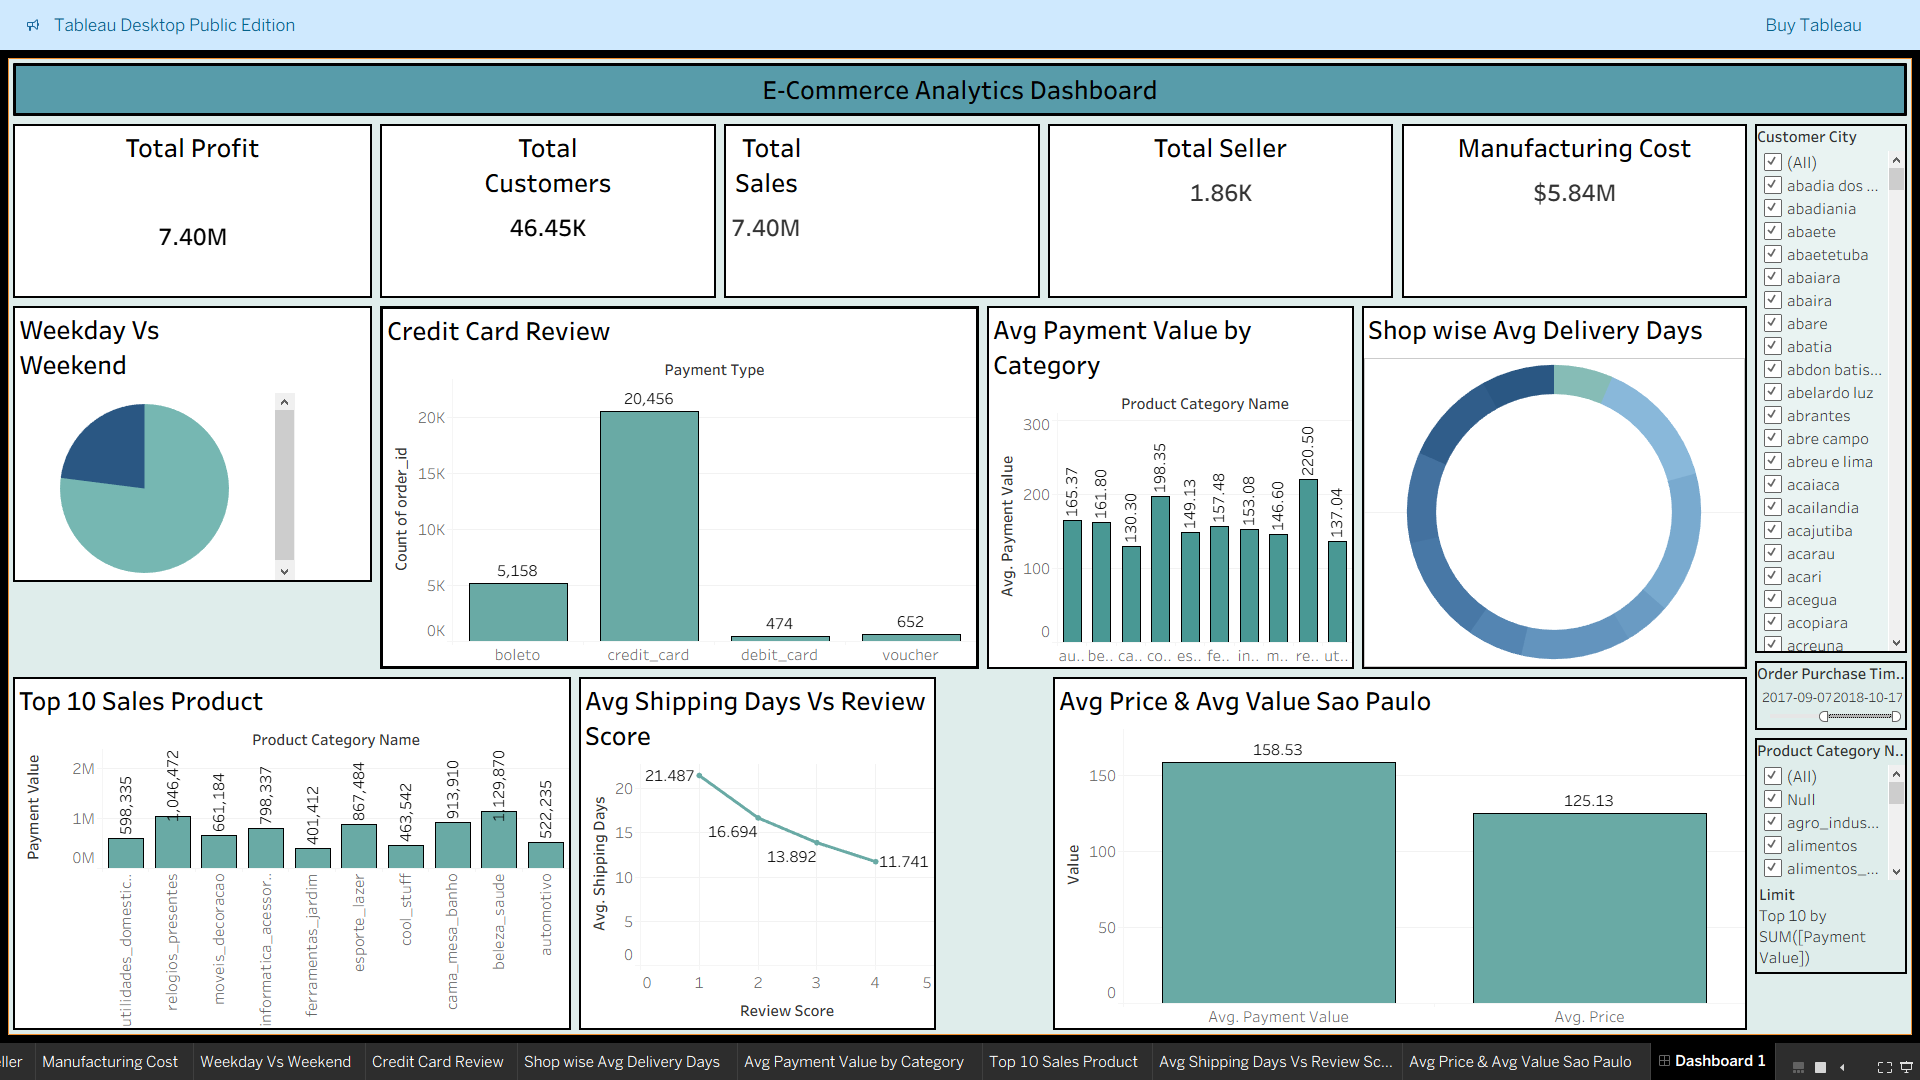

The page's visual inventory and layout, read from the dashboard file:
{"tool":"tableau","page":{"name":"Dashboard 1","canvas":[1000,1000],"units":"permille","ordinal":0},"visuals":[{"type":"title","box":[5.4,11.2,989.1,76.2]},{"type":"worksheet","title":"Total Profit","mark":"Text","box":[5.4,87.4,188.3,179.3]},{"type":"worksheet","title":"Total Customers","mark":"Automatic","box":[193.7,87.4,176.2,179.8]},{"type":"worksheet","title":"Total Sales","mark":"Automatic","box":[369.9,87.4,166,179.8]},{"type":"worksheet","title":"Total Seller","mark":"Automatic","box":[535.9,87.4,181.1,179.8]},{"type":"worksheet","title":"Manufacturing Cost","mark":"Automatic","box":[717,87.4,181.1,179.8]},{"type":"filter","title":"Avg Price & Avg Value Sao Paulo","param":"[federated.0knsha11lh4bxt1ek1t7z04q9ezu].[none:customer_city:nk]","box":[898,87.4,96.6,509.4]},{"type":"worksheet","title":"Weekday Vs Weekend","mark":"Pie","box":[5.4,266.7,188.3,354.6]},{"type":"worksheet","title":"Credit Card Review","mark":"Bar","rows":["order_id"],"cols":["payment_type"],"box":[193.7,267.2,311,365.8]},{"type":"worksheet","title":"Avg Payment Value by Category","mark":"Bar","rows":["payment_value"],"cols":["product_category_name"],"box":[504.7,267.2,192,365.8]},{"type":"worksheet","title":"Shop wise Avg Delivery Days","mark":"Pie","rows":["Calculation_0624029684658178","Calculation_0624029684658178"],"box":[696.7,267.2,201.3,365.8]},{"type":"filter","title":"Avg Shipping Days Vs Review Score","param":"[federated.0knsha11lh4bxt1ek1t7z04q9ezu].[none:order_purchase_timestamp:qk]","box":[898,596.8,96.6,96.1]},{"type":"worksheet","title":"Top 10 Sales Product","mark":"Automatic","rows":["payment_value"],"cols":["product_category_name"],"box":[5.4,633,312.7,355.8]},{"type":"worksheet","title":"Avg Shipping Days Vs Review Score","mark":"Line","rows":["Shipping Days"],"cols":["review_score"],"box":[318.1,633,220.3,355.8]},{"type":"worksheet","title":"Avg Price & Avg Value Sao Paulo","mark":"Automatic","box":[538.4,633,359.6,355.8]},{"type":"filter","title":"Avg Payment Value by Category","param":"[federated.0knsha11lh4bxt1ek1t7z04q9ezu].[none:product_category_name:nk]","box":[898,692.9,96.6,295.9]}]}

Visuals, with their boxes on the dashboard's canvas, which has no fixed pixel size, in thousandths of its width and height (x1, y1, x2, y2). These are canvas units, not pixel positions in the 1920x1080 screenshot, which may show the page scaled, cropped or inside an application window:
title: 5, 11, 994, 87
"Total Profit" worksheet (Text marks): 5, 87, 194, 267
"Total Customers" worksheet: 194, 87, 370, 267
"Total Sales" worksheet: 370, 87, 536, 267
"Total Seller" worksheet: 536, 87, 717, 267
"Manufacturing Cost" worksheet: 717, 87, 898, 267
"Avg Price & Avg Value Sao Paulo" filter: 898, 87, 995, 597
"Weekday Vs Weekend" worksheet (Pie marks): 5, 267, 194, 621
"Credit Card Review" worksheet (Bar marks): 194, 267, 505, 633
"Avg Payment Value by Category" worksheet (Bar marks): 505, 267, 697, 633
"Shop wise Avg Delivery Days" worksheet (Pie marks): 697, 267, 898, 633
"Avg Shipping Days Vs Review Score" filter: 898, 597, 995, 693
"Top 10 Sales Product" worksheet: 5, 633, 318, 989
"Avg Shipping Days Vs Review Score" worksheet (Line marks): 318, 633, 538, 989
"Avg Price & Avg Value Sao Paulo" worksheet: 538, 633, 898, 989
"Avg Payment Value by Category" filter: 898, 693, 995, 989
